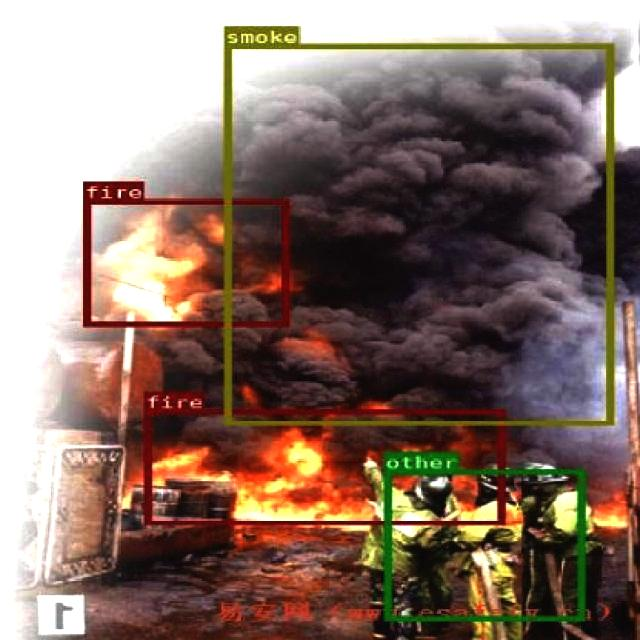fire: (143, 408, 503, 524), (81, 200, 288, 326)
smoke: (223, 44, 612, 424)
